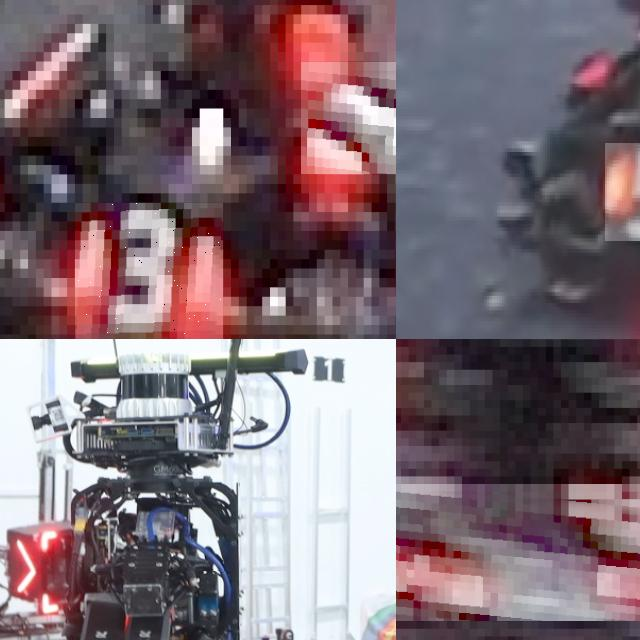R3: (74, 203, 223, 339), (301, 61, 396, 174)
R4: (396, 484, 640, 621)
R5: (605, 143, 640, 241)
